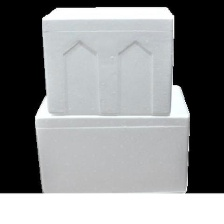foam_box: (29, 82, 193, 192), (37, 3, 180, 119)
